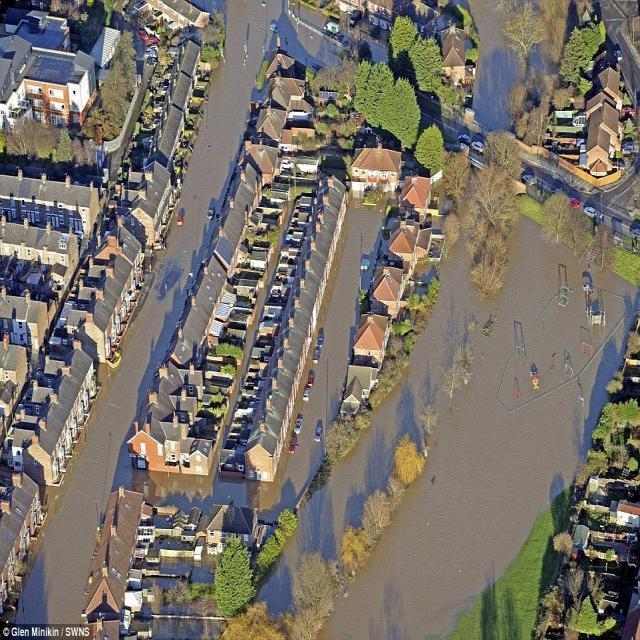flood: (17, 0, 381, 624), (260, 218, 638, 640), (472, 0, 521, 127)
house: (3, 350, 99, 475), (0, 174, 104, 232), (24, 49, 97, 124), (88, 490, 146, 579), (199, 179, 256, 263), (0, 220, 82, 266), (177, 258, 225, 324), (158, 40, 202, 110), (0, 291, 54, 348), (544, 90, 588, 158), (210, 499, 260, 552), (579, 104, 623, 163), (268, 76, 311, 131), (348, 142, 400, 185), (385, 227, 430, 269), (16, 14, 68, 50), (354, 316, 390, 365), (256, 106, 300, 145), (344, 362, 379, 411), (402, 170, 437, 218), (243, 140, 280, 180), (372, 270, 406, 312), (130, 429, 164, 470), (78, 314, 108, 359), (89, 26, 120, 69), (438, 29, 468, 72), (264, 51, 305, 79), (123, 204, 153, 242), (138, 388, 174, 419), (163, 336, 194, 363), (154, 362, 182, 389), (615, 498, 640, 527), (75, 285, 98, 309), (84, 266, 108, 288)
